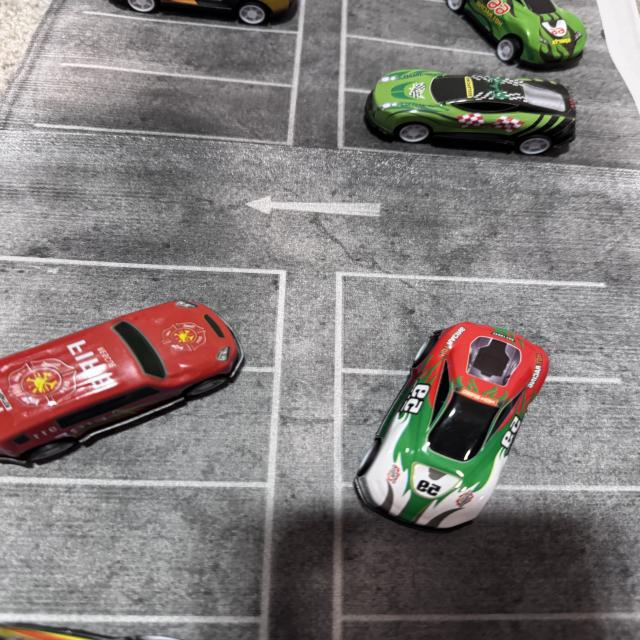Car: (0, 240, 320, 459), (350, 298, 586, 548), (348, 73, 587, 233), (454, 0, 630, 85), (76, 1, 356, 48)
